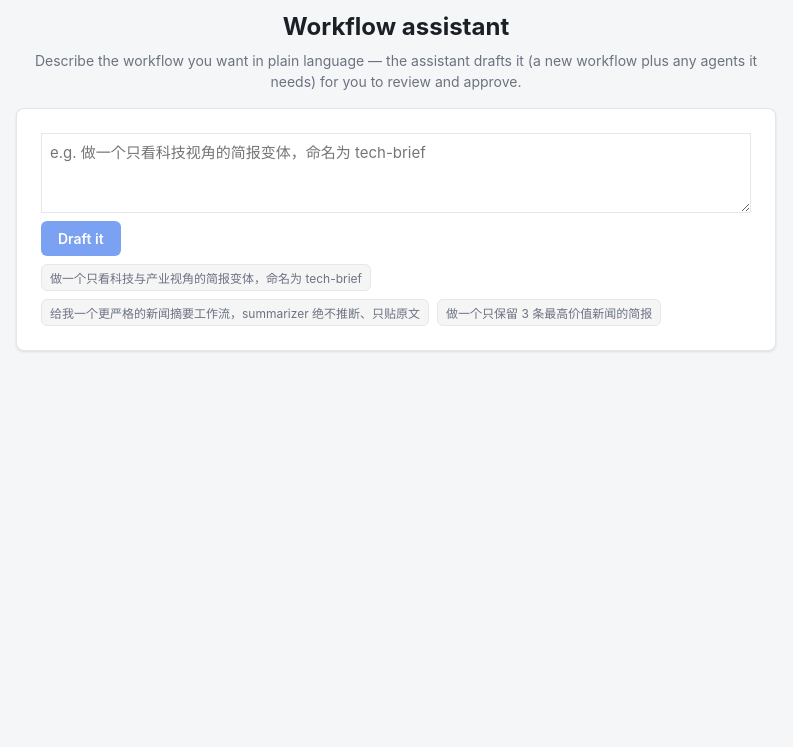
Scenario: AssistantPage › approve → creates the defs and shows links
Type "x" into the text box named "describe the workflow you want" at x=396, y=173, box [41,133,751,213]
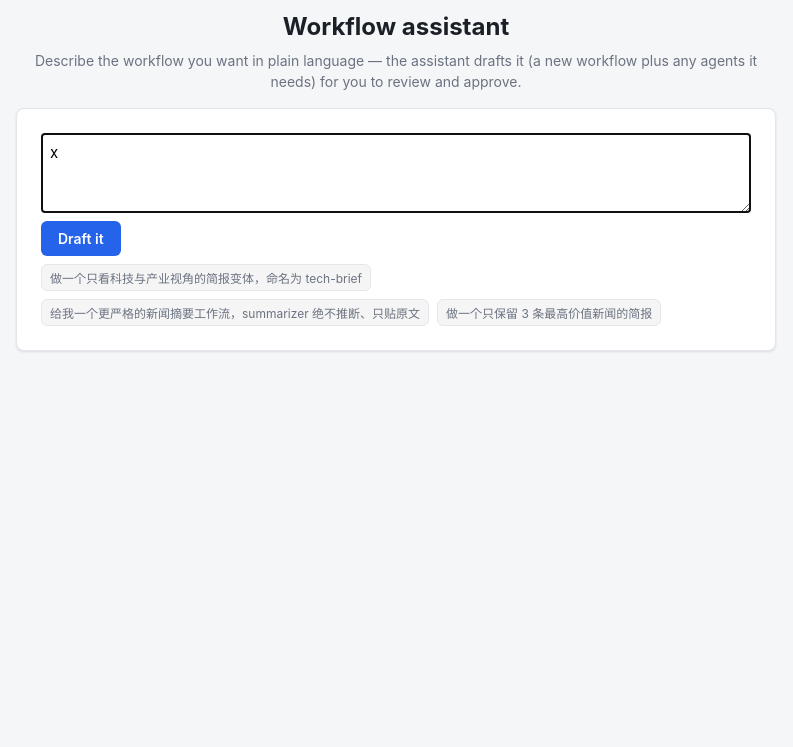
Click the button "Draft it" at x=81, y=238, box [41,221,121,256]
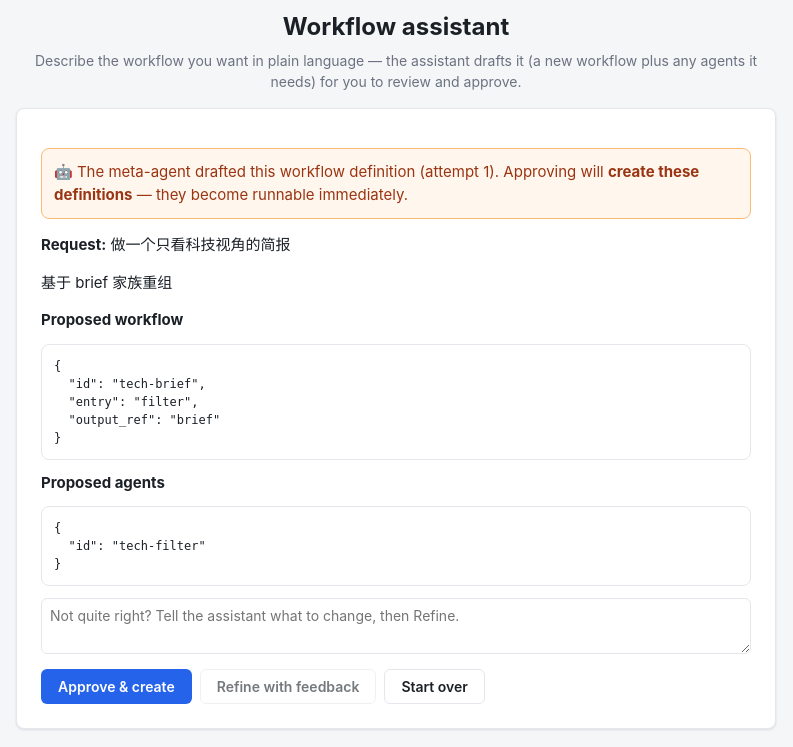
Expected: the text "tech-brief" is shown, [54,358,220,444]
Click the button "Approve & create" at x=116, y=686, box [41,668,192,704]
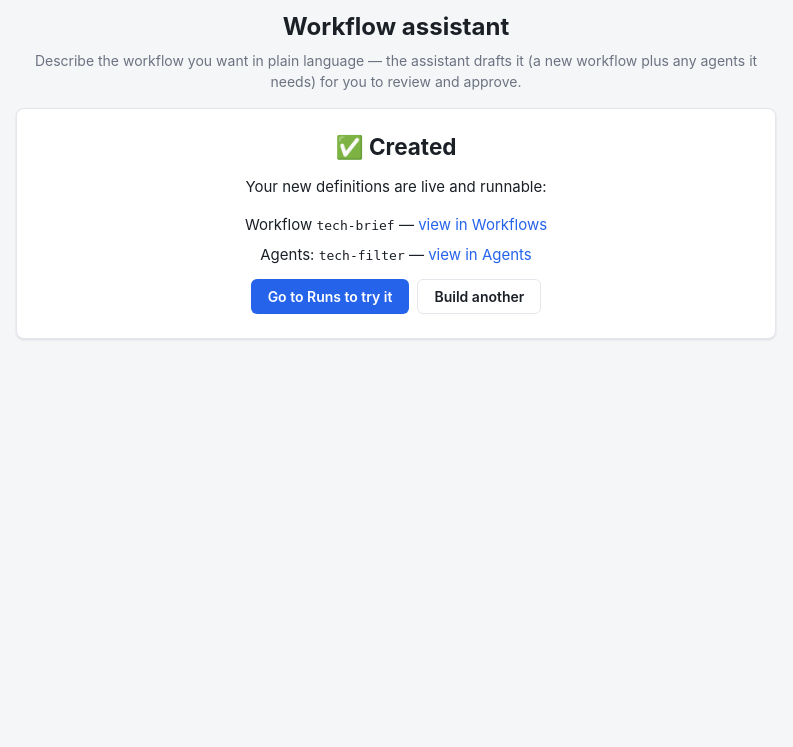
Expected: the heading "✅ Created" is shown, [336,133,456,160]
